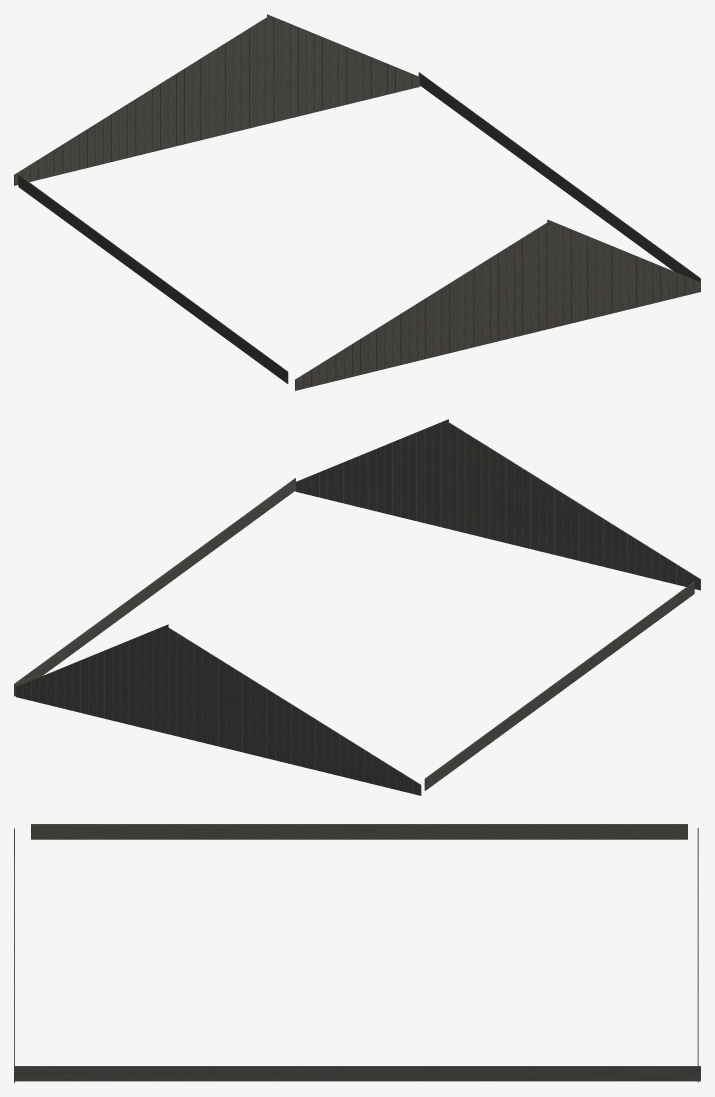
Rendered from DG_Fassade.gltf.
3 views of the same model, one above another, from view 1: azimuth 30°, elevation 25°; view 2: azimuth 150°, elevation 25°; view 3: azimuth 270°, elevation 25° (orthographic). The views are drawn at different scales.
Visible parts, largest first — view 1: holzfassade.017, holzfassade.016, holzfassade.019, holzfassade.018; view 2: holzfassade.016, holzfassade.017, holzfassade.019, holzfassade.018; view 3: holzfassade.019, holzfassade.018, holzfassade.016.
Boxes of the visible parts, x1,y1,x2,y2 form: holzfassade.017: [295, 219, 700, 390]; holzfassade.016: [14, 14, 419, 185]; holzfassade.019: [418, 72, 700, 282]; holzfassade.018: [18, 175, 288, 383]; holzfassade.016: [15, 624, 421, 795]; holzfassade.017: [295, 419, 700, 590]; holzfassade.019: [14, 478, 295, 696]; holzfassade.018: [424, 581, 694, 790]; holzfassade.019: [14, 1066, 700, 1081]; holzfassade.018: [31, 824, 687, 839]; holzfassade.016: [697, 828, 698, 1082].
Bounding box in the file's own units: 10.02 × 2.58 × 12.03.
2 materials, 2 textured.
